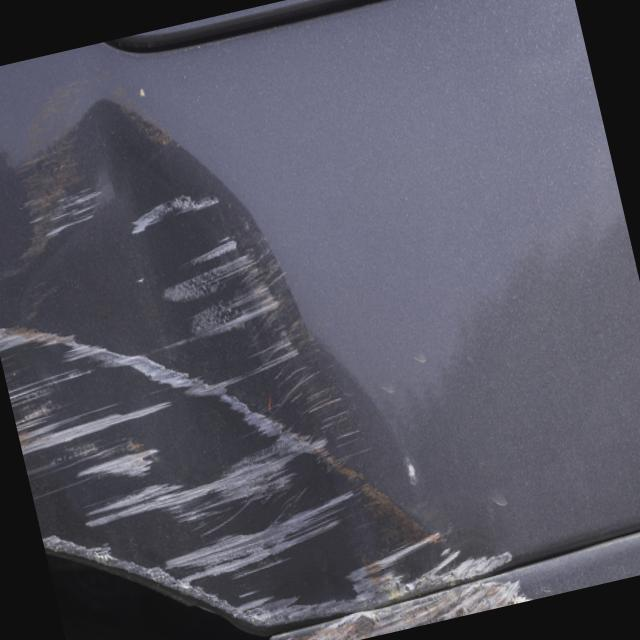Cabossage: (0, 56, 385, 640)
Rayure: (0, 72, 557, 640)
